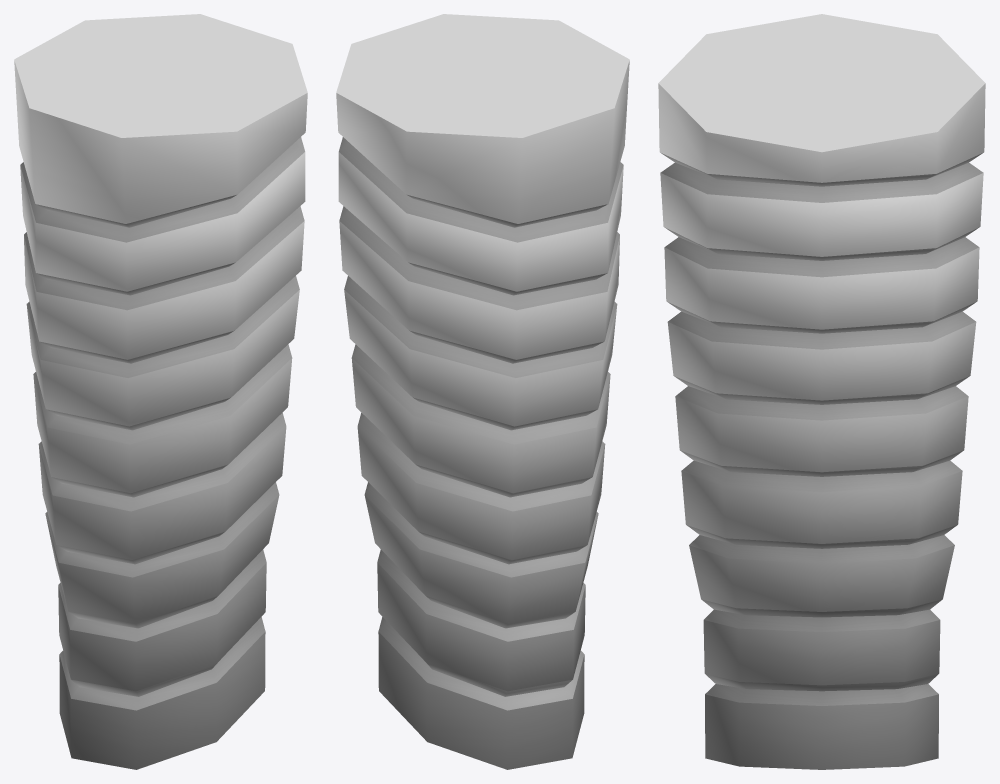
File: stone_grip_059.glb
The picture shows the model from 3 angles, left to right: view 1: azimuth 30°, elevation 25°; view 2: azimuth 150°, elevation 25°; view 3: azimuth 270°, elevation 25°; orthographic projection. The views are drawn at different scales.
Visible parts, largest first — view 1: stone_grip.059; view 2: stone_grip.059; view 3: stone_grip.059.
Part boxes in pixels (left/top/right/bottom): stone_grip.059: left=14, top=14, right=307, bottom=769; stone_grip.059: left=336, top=14, right=629, bottom=769; stone_grip.059: left=658, top=14, right=985, bottom=769.
Size of the model in its own units: 1.51 by 3.61 by 1.51.
Materials: 1 (1 with a texture image).
